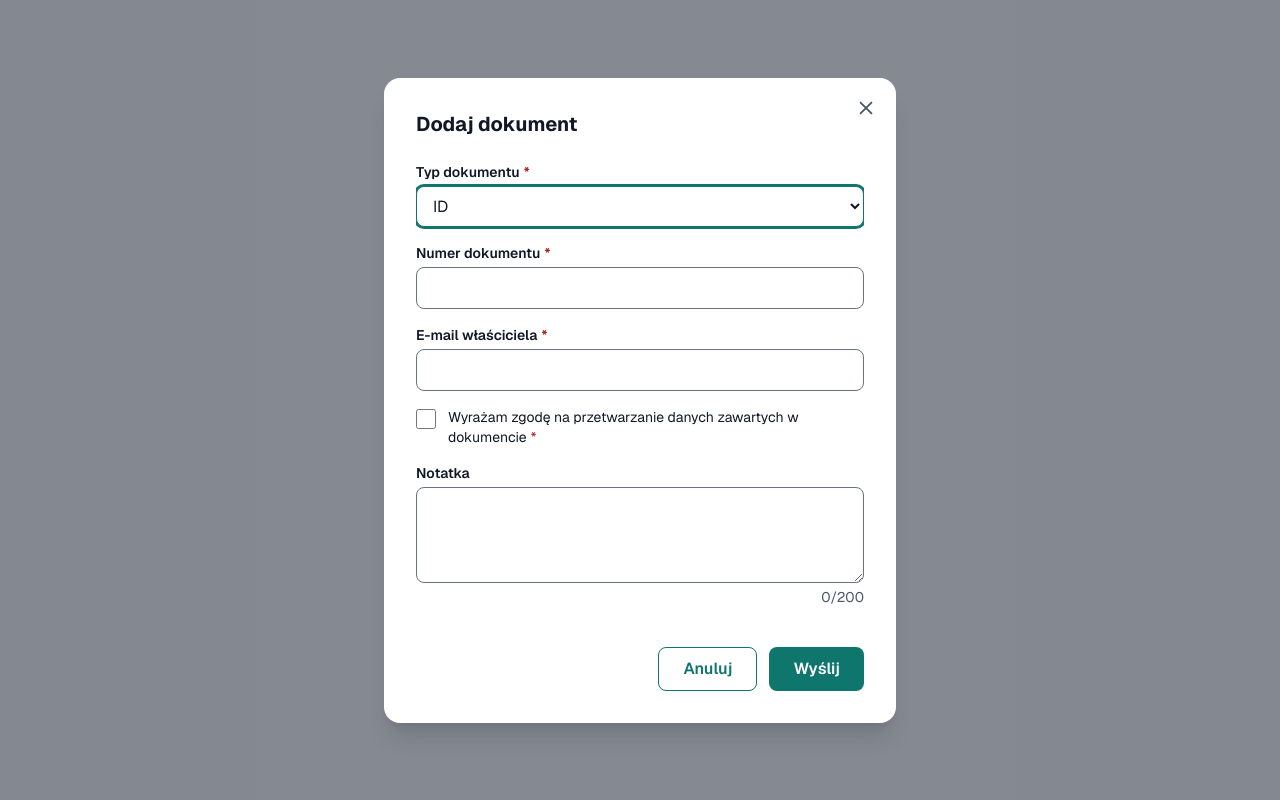
AddDocumentModal › sends the trimmed document, shows the request in flight and then the accepted document
The image size is (1280, 800).
In the field labelled "Numer dokumentu": (640, 288) left=416, top=266, right=864, bottom=308, type " ABC 123456 "
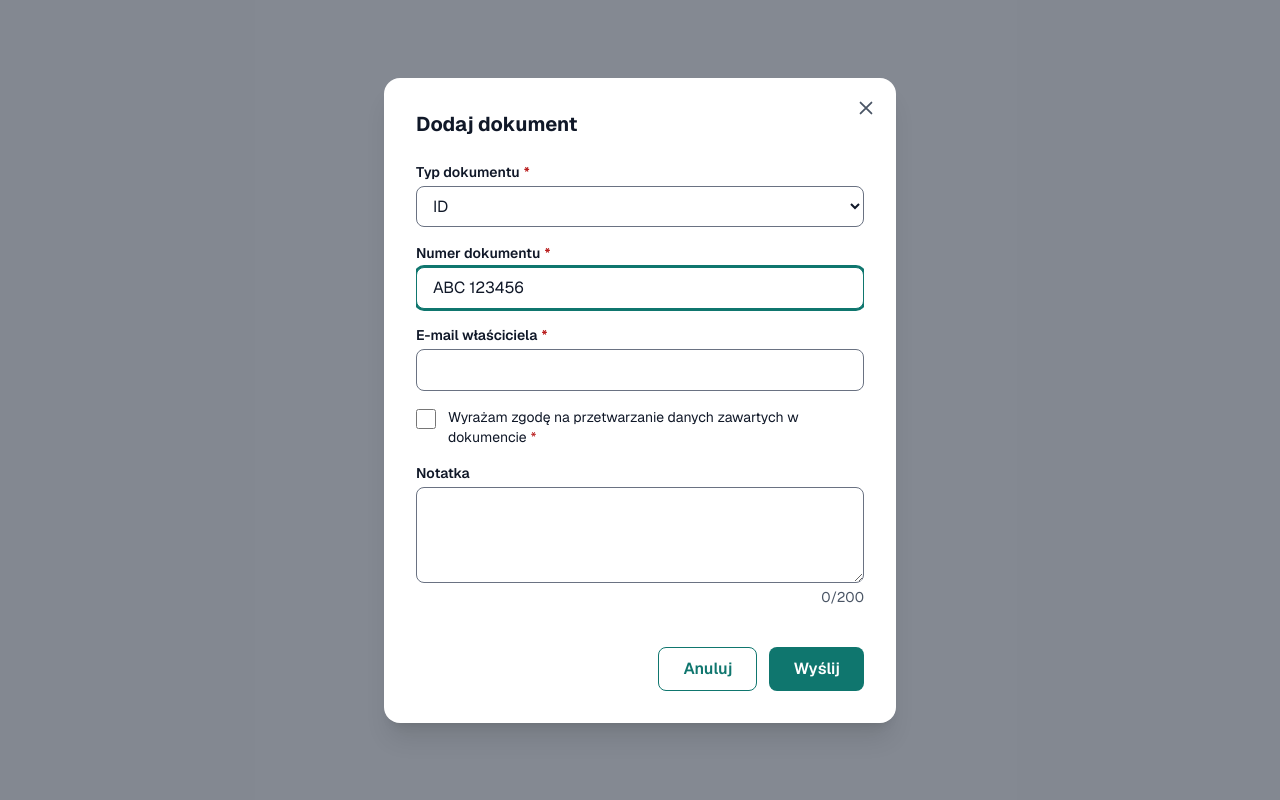
In the field labelled "E-mail właściciela": (640, 370) left=416, top=348, right=864, bottom=390, type "anna@example.pl"
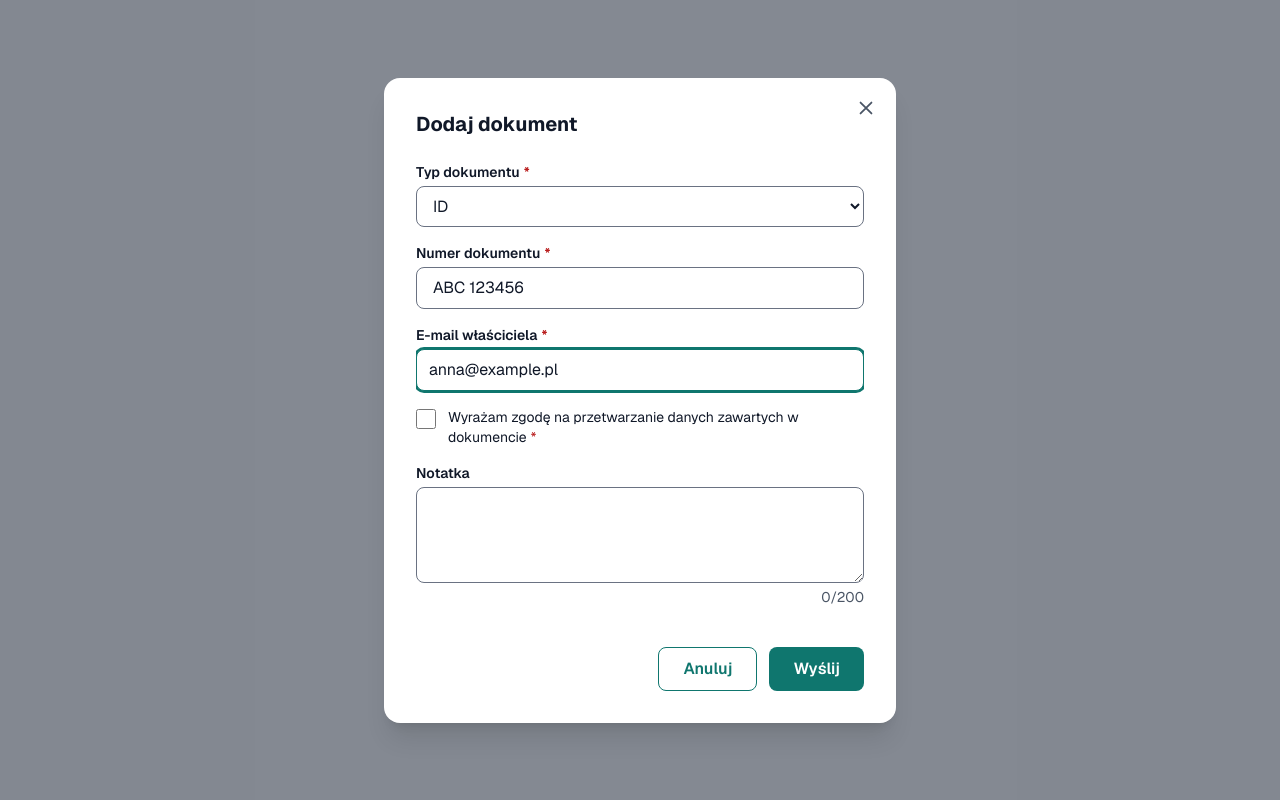
Click the checkbox labelled "Wyrażam zgodę": (426, 418) left=416, top=408, right=436, bottom=428
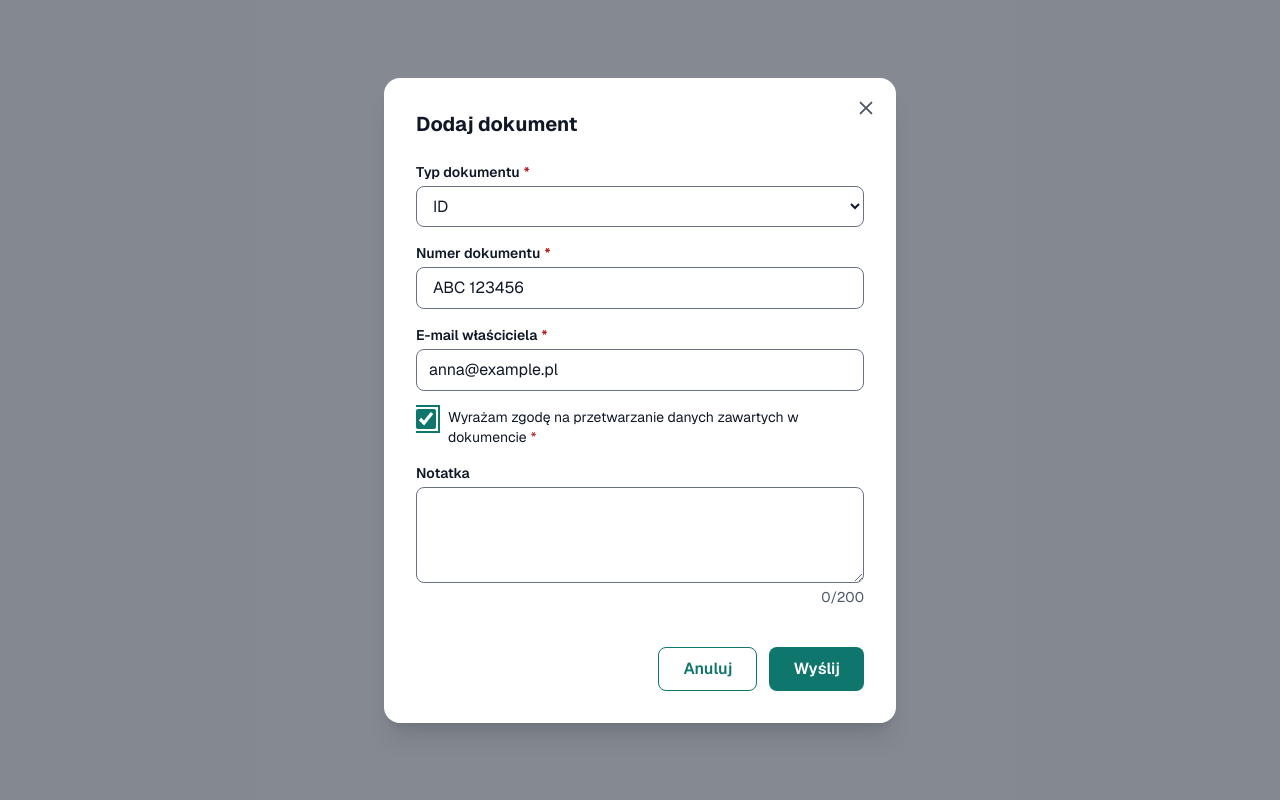
Click the button "Wyślij": (817, 668) left=769, top=646, right=864, bottom=690
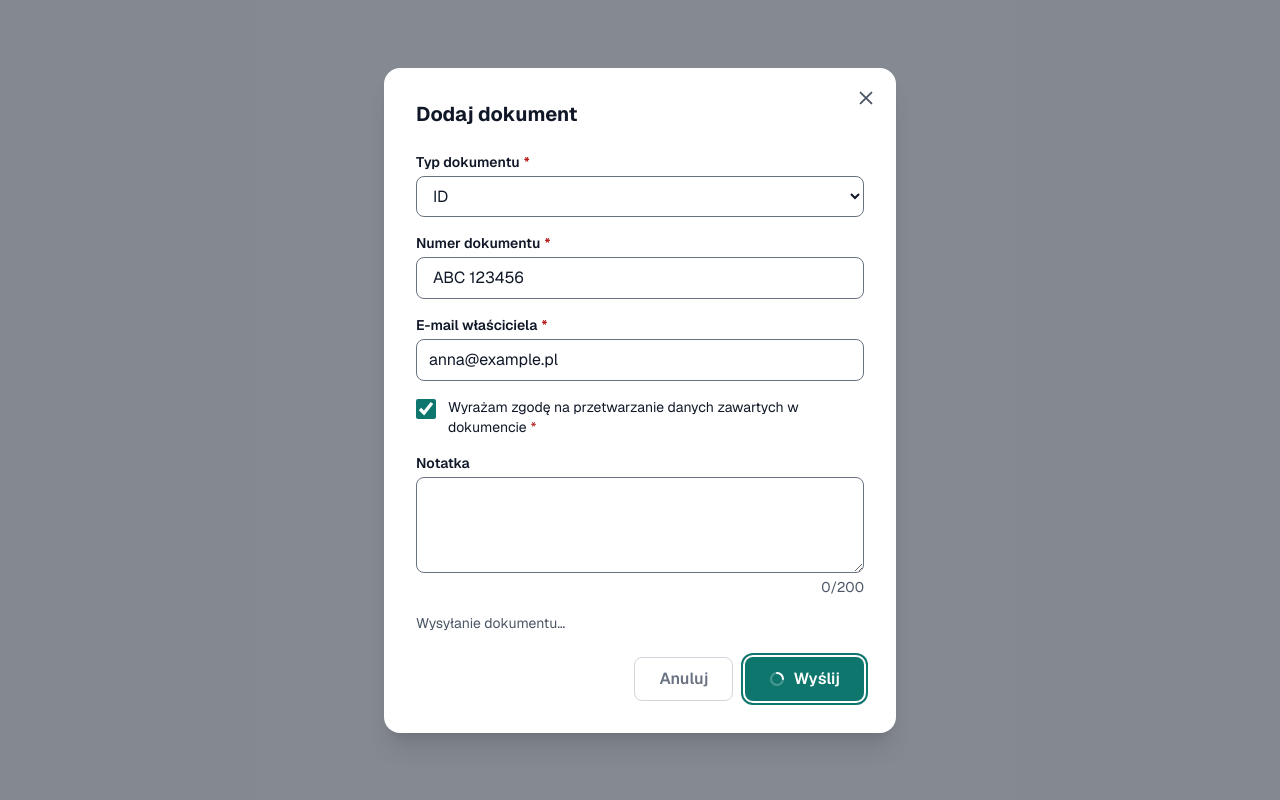
Now the message reads "Wysyłanie dokumentu…", box left=416, top=614, right=565, bottom=632
Now the button "Anuluj" is disabled, box left=634, top=656, right=733, bottom=700
Press Escape
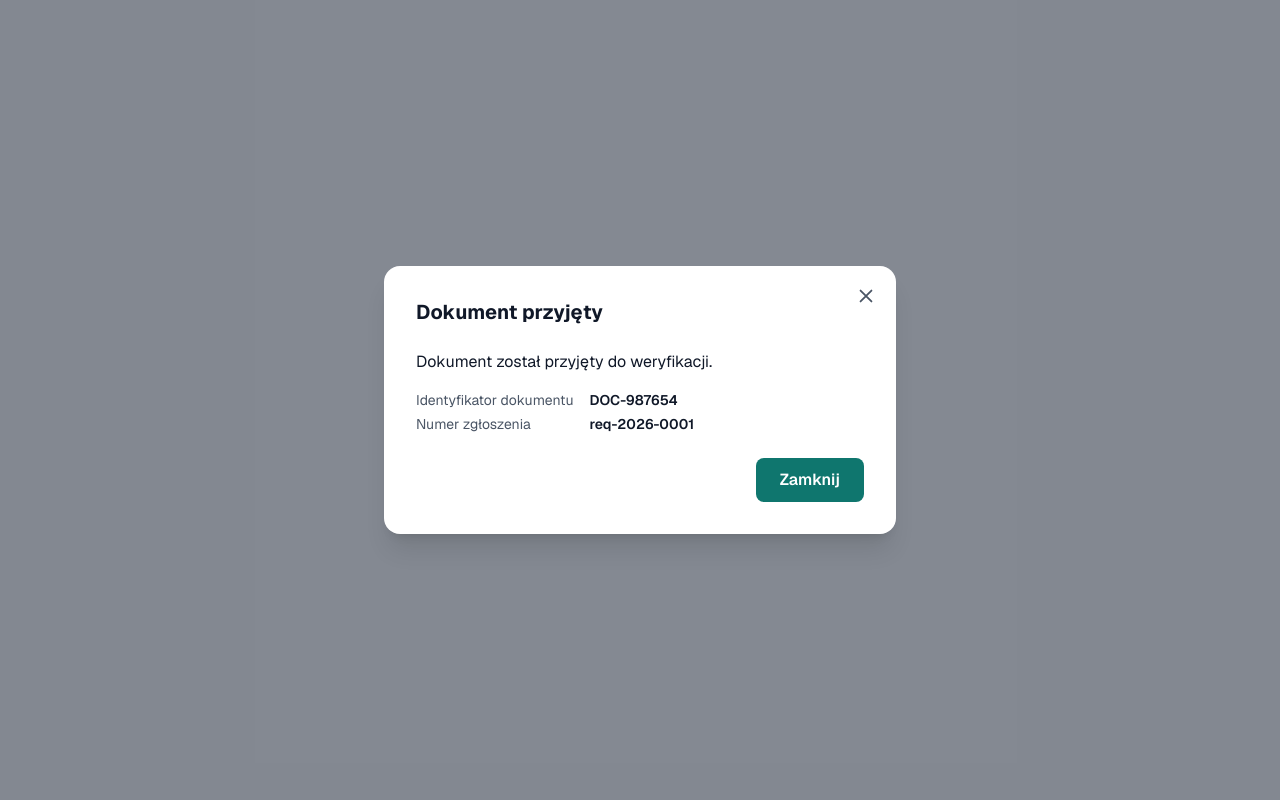
Now the text "Dokument został przyjęty do weryfikacji." is shown, box left=416, top=351, right=712, bottom=372
Now the text "DOC-987654" is shown, box left=590, top=391, right=678, bottom=409
Now the text "req-2026-0001" is shown, box left=590, top=415, right=694, bottom=433
